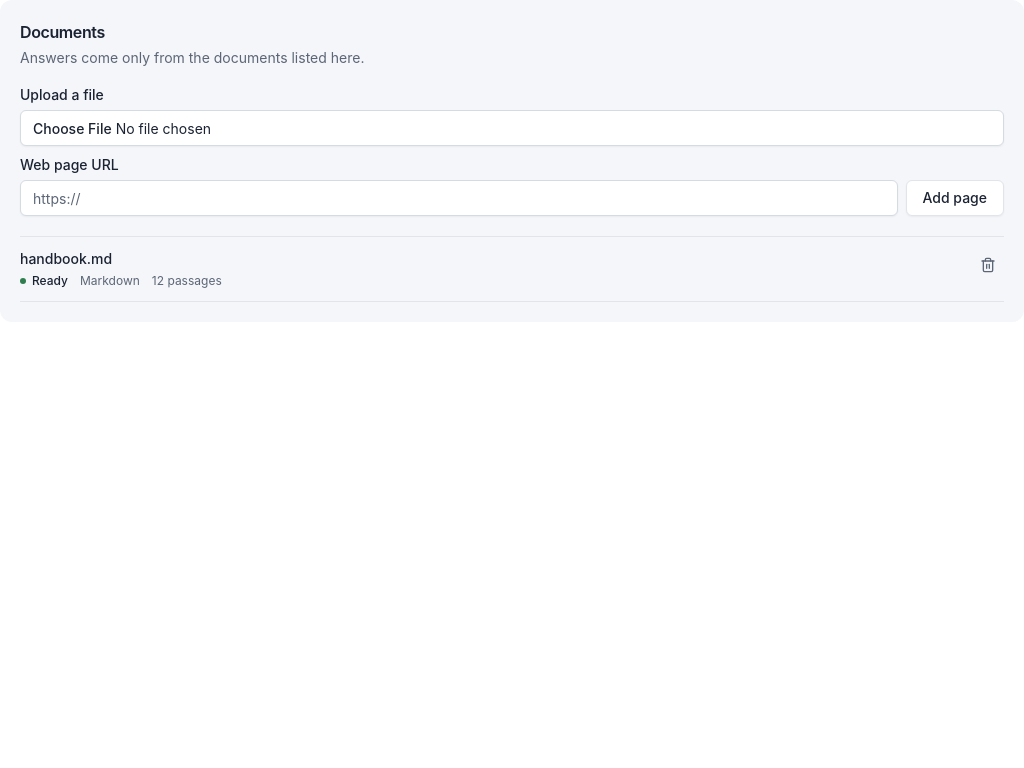
Test: delete asks first, then shows a 409's detail
Click the button named "Delete handbook.md": [988, 265] box [972, 249, 1004, 281]
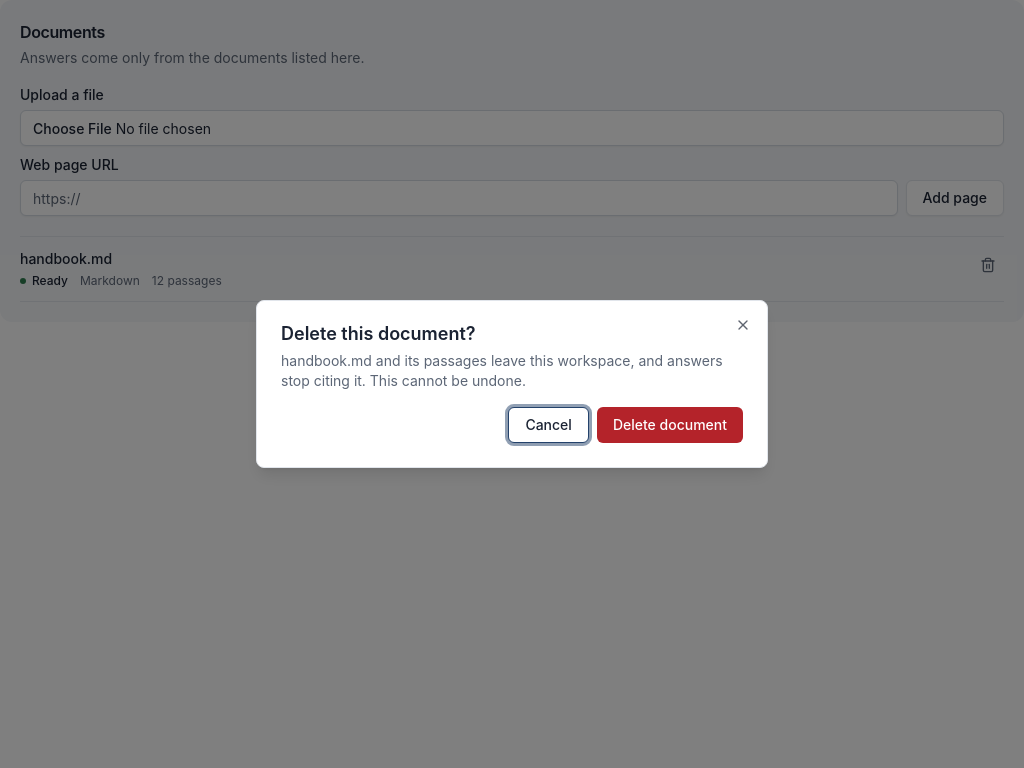
Click the button "Delete document": [670, 425] box [597, 407, 743, 443]
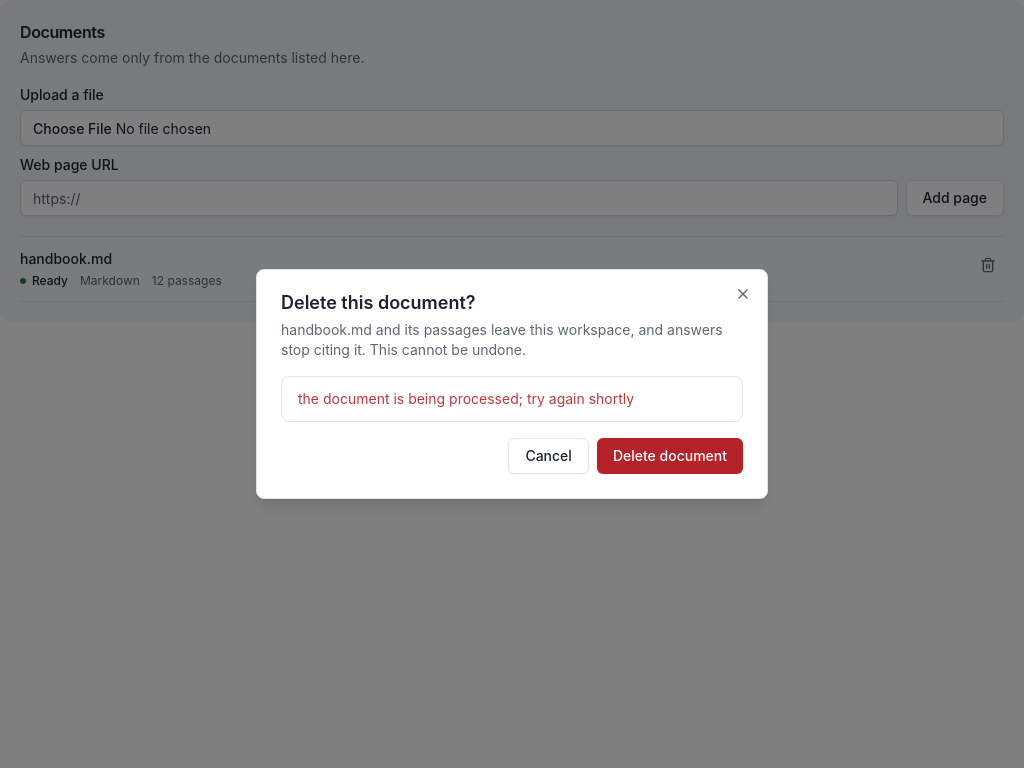
expect the message reads "the document is being processed; try again shortly": met, box [298, 390, 634, 407]
